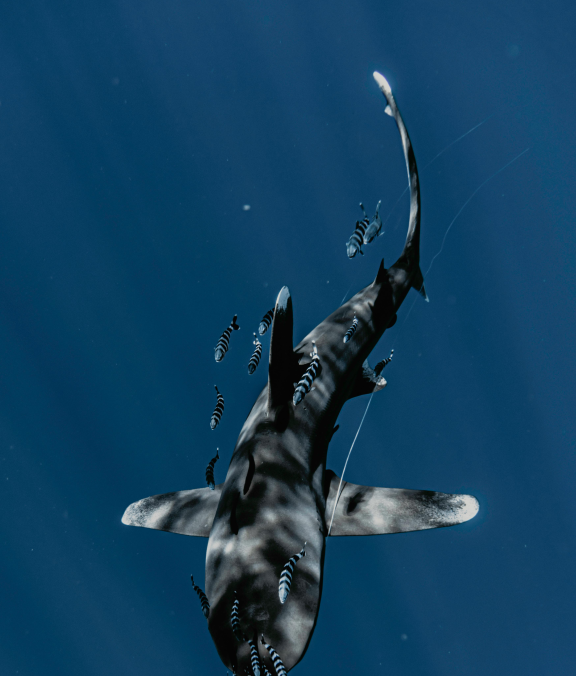fishLarge: (292, 334, 323, 408), (277, 538, 310, 605), (214, 309, 243, 367), (344, 203, 372, 261), (224, 583, 248, 643), (259, 630, 290, 676), (360, 198, 386, 247), (188, 572, 214, 621), (208, 381, 227, 434), (202, 445, 222, 494), (244, 632, 266, 676), (371, 346, 396, 382), (340, 309, 363, 345), (247, 331, 263, 379), (256, 304, 275, 336)
shark: (120, 73, 480, 675)
